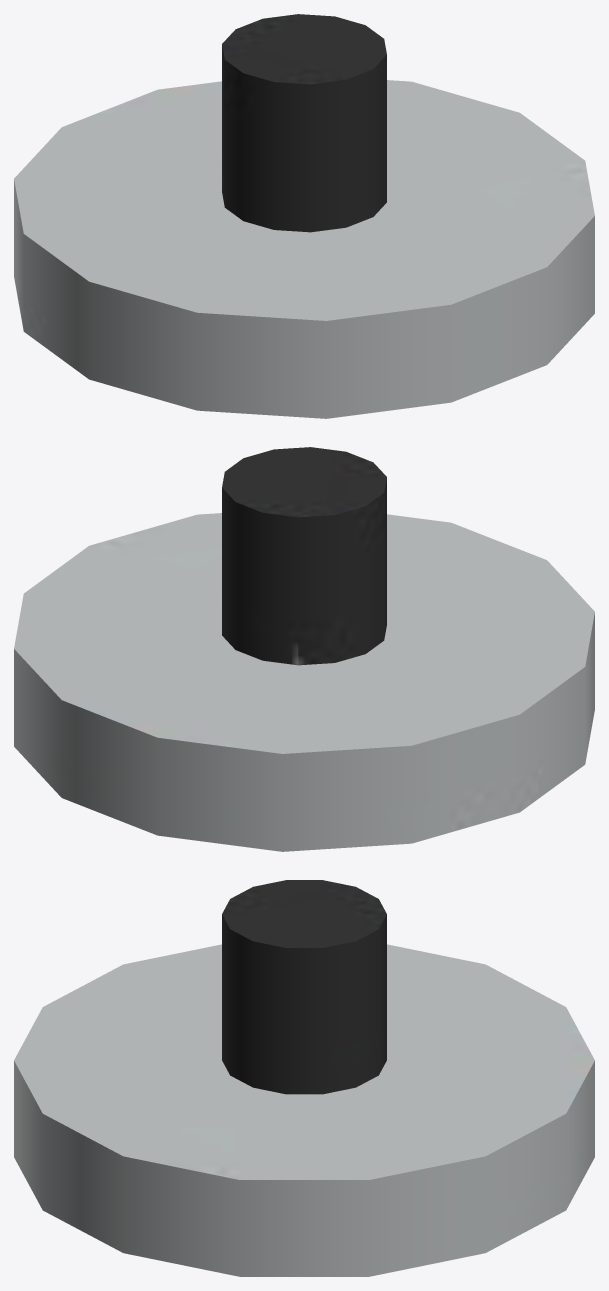
The model's file is tool_lever_pipe_expander_nozzle_03.glb.
3 renders of one model, top to bottom at view 1: azimuth 30°, elevation 25°; view 2: azimuth 150°, elevation 25°; view 3: azimuth 270°, elevation 25°, orthographic.
Parts seen in each view (by area): view 1: tool_lever_pipe_expander_nozzle_03; view 2: tool_lever_pipe_expander_nozzle_03; view 3: tool_lever_pipe_expander_nozzle_03.
Part boxes in pixels (<box>): tool_lever_pipe_expander_nozzle_03: <box>14,14,594,418</box>; tool_lever_pipe_expander_nozzle_03: <box>14,447,594,851</box>; tool_lever_pipe_expander_nozzle_03: <box>14,880,594,1276</box>.
Bounding box in the file's own units: 0.0698 × 0.033 × 0.0716.
1 material, 1 textured.
